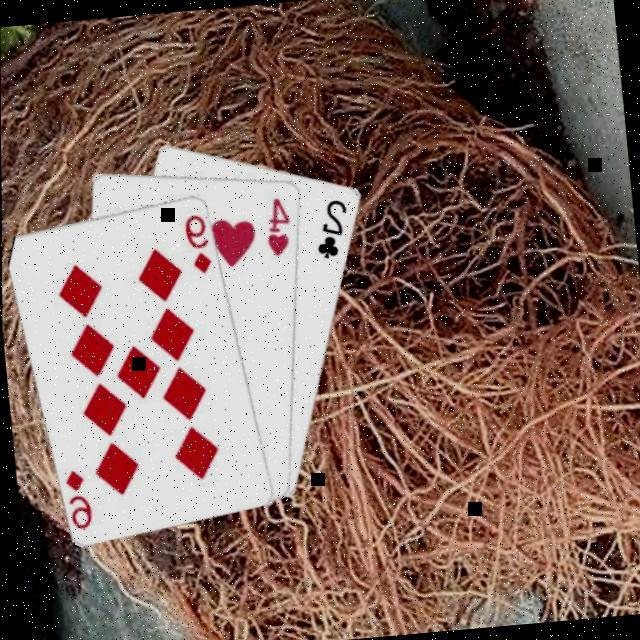2C: (307, 196, 353, 264)
4H: (260, 194, 295, 260)
9D: (60, 466, 96, 534), (178, 212, 214, 278)
